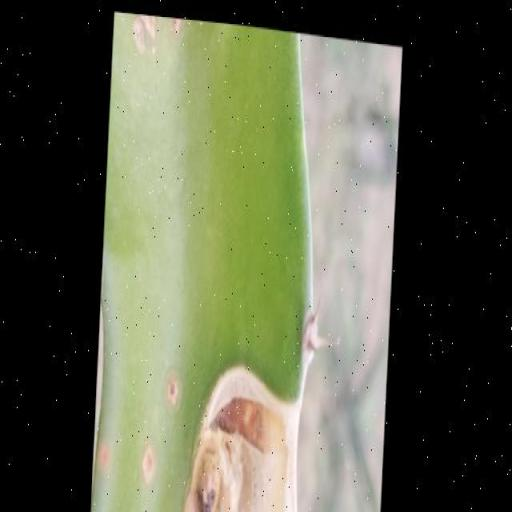stemcanker: (119, 374, 162, 456), (369, 364, 408, 424), (178, 352, 208, 418), (422, 382, 446, 420)
